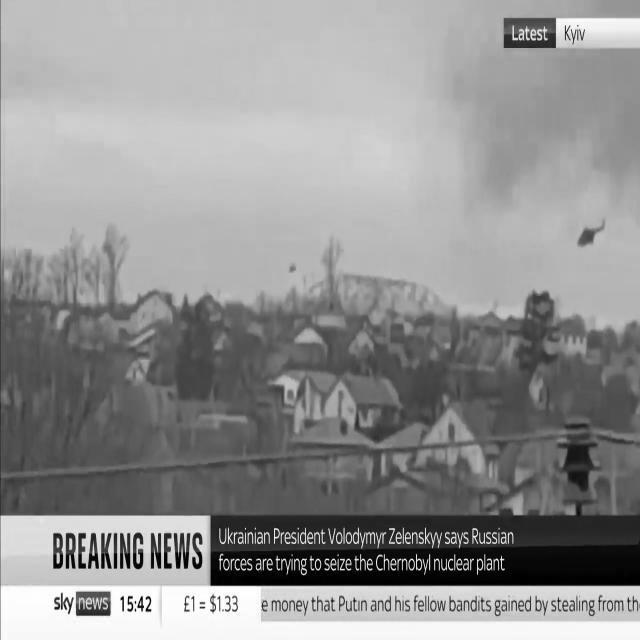helikopter: (569, 207, 626, 282)
